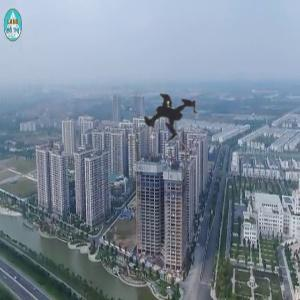drone: (97, 42, 250, 195)
